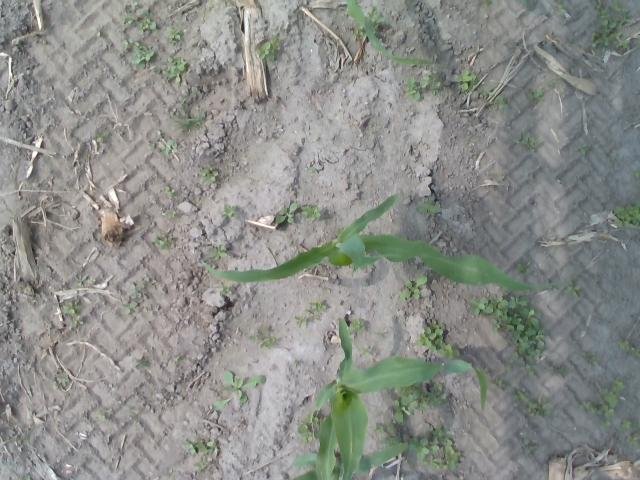Maize: (199, 194, 562, 292), (306, 312, 489, 480), (345, 0, 442, 73), (286, 442, 408, 480)
Weeds: (468, 292, 548, 359), (407, 424, 462, 472), (392, 382, 446, 422), (590, 0, 632, 50), (416, 318, 460, 358), (220, 370, 266, 404), (124, 1, 158, 34), (596, 380, 626, 417), (122, 275, 150, 314), (153, 55, 189, 82), (122, 38, 153, 69), (296, 413, 326, 443), (611, 200, 640, 230), (146, 131, 178, 157), (173, 104, 205, 130), (399, 275, 428, 301), (256, 33, 282, 62), (479, 87, 509, 110), (62, 300, 84, 328), (452, 69, 478, 92), (524, 397, 552, 418), (404, 78, 428, 101), (365, 6, 384, 35), (250, 327, 276, 348), (182, 438, 216, 454), (514, 131, 542, 150), (274, 203, 298, 223), (304, 300, 326, 320), (154, 234, 178, 251), (416, 198, 440, 214), (424, 72, 441, 94), (208, 243, 228, 261), (564, 280, 582, 298), (199, 165, 219, 181), (300, 204, 320, 220), (166, 26, 182, 45), (580, 351, 600, 366), (353, 19, 368, 39), (506, 354, 520, 374), (52, 376, 72, 390), (620, 418, 640, 432), (75, 274, 96, 287), (526, 88, 544, 103), (348, 318, 365, 333), (579, 400, 597, 414), (380, 435, 404, 445), (372, 422, 396, 432), (520, 438, 536, 452), (493, 375, 510, 388), (95, 130, 112, 143), (134, 356, 152, 368), (554, 0, 568, 15), (511, 390, 530, 401), (516, 260, 532, 273), (616, 338, 632, 351), (213, 398, 230, 410), (222, 204, 236, 218), (626, 434, 640, 448), (294, 315, 310, 327), (98, 408, 111, 422), (91, 26, 106, 38), (194, 458, 207, 471), (555, 365, 567, 379), (218, 283, 232, 295), (164, 208, 180, 218), (361, 346, 374, 358), (165, 184, 176, 198), (576, 142, 588, 154), (526, 362, 536, 376), (600, 420, 612, 430), (631, 346, 640, 358), (632, 168, 640, 180), (548, 78, 556, 86), (403, 0, 414, 5), (482, 0, 492, 5), (23, 437, 30, 444), (309, 167, 318, 172), (22, 476, 32, 480), (364, 52, 369, 59)
